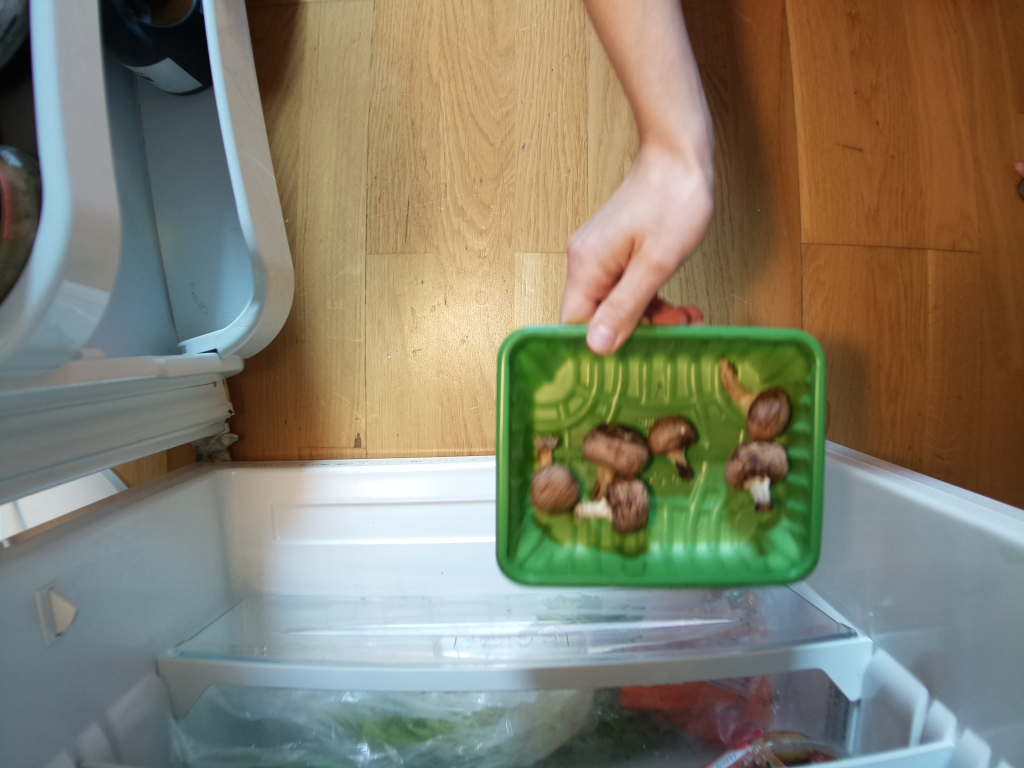mushrooms-bad: (497, 328, 832, 593)
